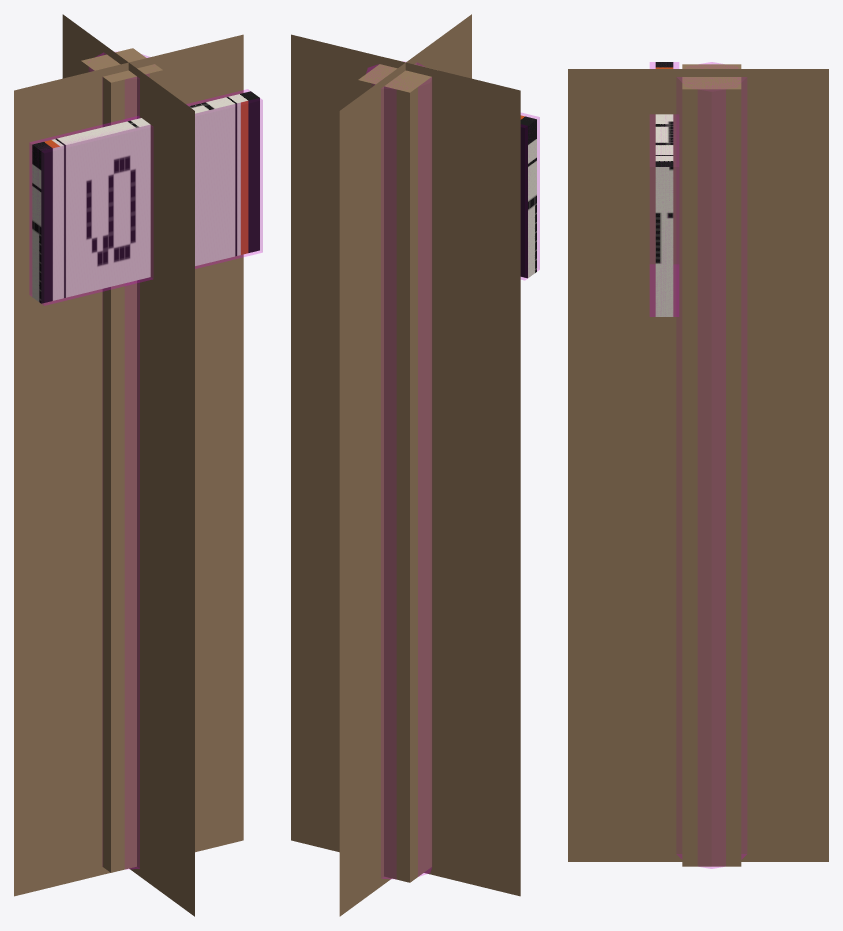
Rendered from milemarker_091.dae.
3 renders of one model, left to right at view 1: azimuth 30°, elevation 25°; view 2: azimuth 150°, elevation 25°; view 3: azimuth 270°, elevation 25°, orthographic.
Parts seen in each view (by area): view 1: milemarker_091_a50, milemarker_091_a800, Colmesh_sign-1, milemarker_091_a200, Colmesh_post-1; view 2: milemarker_091_a50, milemarker_091_a800, Colmesh_post-1, milemarker_091_a200, Colmesh_sign-1; view 3: milemarker_091_a50, milemarker_091_a800, Colmesh_post-1, Colmesh_sign-1.
Part boxes in pixels (x1,y1,x2,y2): milemarker_091_a50: [14, 14, 243, 916]; milemarker_091_a800: [32, 48, 259, 872]; Colmesh_sign-1: [29, 89, 262, 305]; milemarker_091_a200: [102, 56, 159, 866]; Colmesh_post-1: [89, 53, 148, 869]; milemarker_091_a50: [291, 14, 520, 916]; milemarker_091_a800: [358, 58, 536, 882]; Colmesh_post-1: [366, 61, 431, 878]; milemarker_091_a200: [379, 66, 431, 879]; Colmesh_sign-1: [521, 113, 539, 280]; milemarker_091_a50: [568, 69, 828, 861]; milemarker_091_a800: [655, 62, 741, 866]; Colmesh_post-1: [677, 62, 746, 868]; Colmesh_sign-1: [650, 62, 678, 316].
Size of the model in its own units: 0.441 by 0.441 by 1.48.
3 materials, 1 textured.
